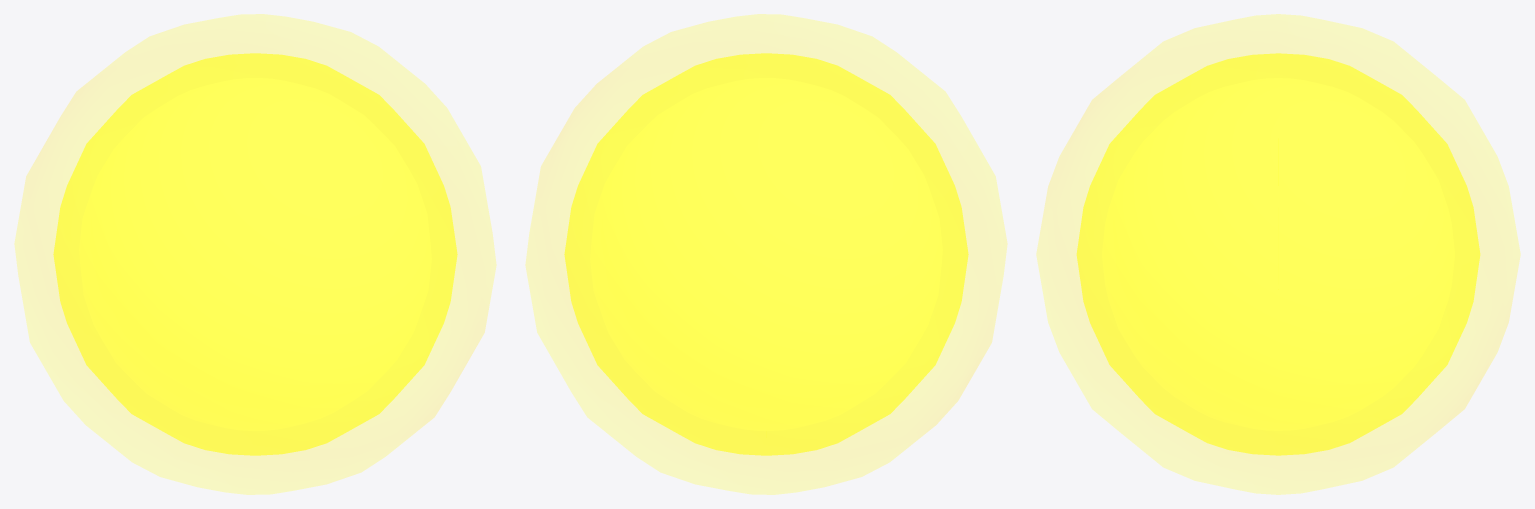
File: Sol.fbx
The picture shows the model from 3 angles, left to right: view 1: azimuth 30°, elevation 25°; view 2: azimuth 150°, elevation 25°; view 3: azimuth 270°, elevation 25°; orthographic projection.
Visible parts, largest first — view 1: Sol_Corona, Sol, Sol_Halo; view 2: Sol_Corona, Sol, Sol_Halo; view 3: Sol_Corona, Sol, Sol_Halo.
Part boxes in pixels (left/top/right/bottom): Sol_Corona: left=53, top=53, right=457, bottom=455; Sol: left=79, top=78, right=431, bottom=430; Sol_Halo: left=14, top=14, right=496, bottom=494; Sol_Corona: left=564, top=53, right=968, bottom=455; Sol: left=590, top=78, right=942, bottom=430; Sol_Halo: left=525, top=14, right=1007, bottom=494; Sol_Corona: left=1076, top=53, right=1480, bottom=455; Sol: left=1102, top=78, right=1454, bottom=430; Sol_Halo: left=1036, top=14, right=1520, bottom=494.
Size of the model in its own units: 61440 by 61440 by 61440.
